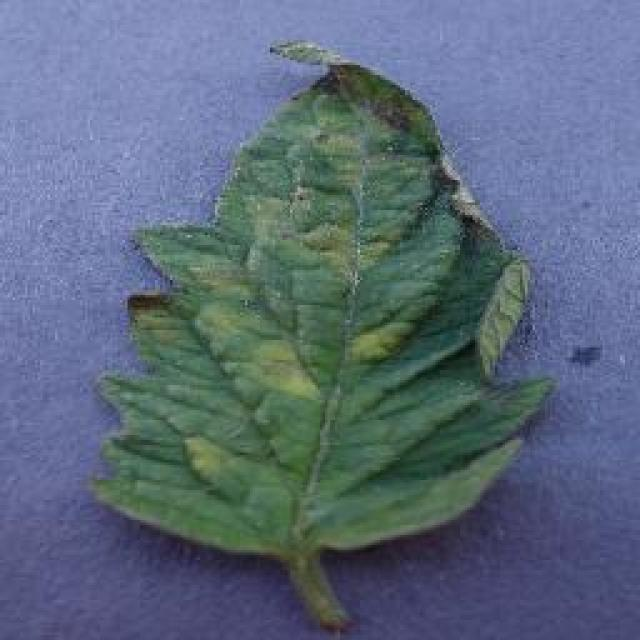Tomato___Leaf_Mold: (95, 42, 550, 622)
